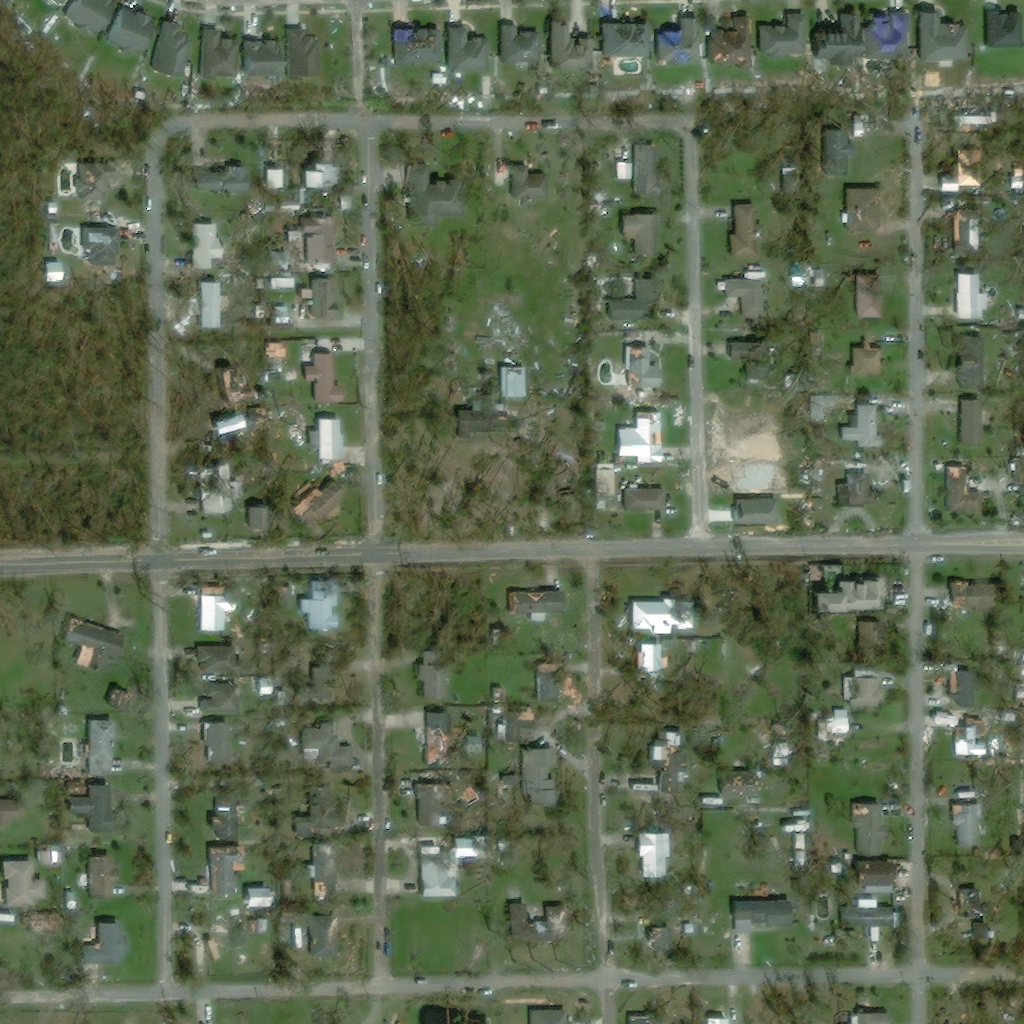minor_damage: (59, 612, 126, 674), (862, 6, 914, 76), (196, 464, 251, 516), (704, 13, 751, 71), (699, 770, 764, 808), (615, 411, 661, 463), (78, 719, 117, 778), (848, 802, 890, 856), (655, 16, 701, 64), (203, 845, 246, 894), (600, 18, 650, 59), (391, 25, 441, 65), (505, 586, 564, 616), (949, 803, 987, 849), (947, 467, 983, 515), (76, 163, 118, 201), (647, 731, 684, 773), (208, 791, 239, 841), (824, 129, 855, 177), (947, 581, 998, 610), (207, 925, 235, 976), (942, 672, 972, 718), (628, 345, 659, 389), (854, 860, 892, 895), (419, 712, 445, 761), (953, 209, 982, 252), (497, 365, 529, 399), (536, 664, 561, 702), (939, 111, 972, 133), (220, 367, 240, 400), (852, 114, 877, 138)
no_damage: (296, 713, 368, 771), (405, 163, 462, 227), (808, 566, 884, 614), (418, 840, 476, 899), (145, 17, 194, 80), (396, 643, 447, 701), (101, 8, 156, 61), (602, 275, 658, 323), (726, 200, 768, 260), (918, 11, 967, 62), (274, 28, 322, 80), (812, 10, 859, 63), (626, 599, 693, 635), (67, 780, 112, 833), (615, 144, 661, 195), (185, 277, 229, 329), (301, 352, 343, 406), (78, 919, 126, 966), (732, 897, 791, 935), (57, 0, 116, 37), (298, 580, 341, 630), (615, 209, 664, 252), (444, 26, 489, 72), (0, 861, 45, 907), (837, 405, 885, 448), (193, 583, 235, 632), (632, 830, 670, 884), (950, 271, 991, 319), (954, 335, 989, 391), (235, 35, 275, 82), (756, 25, 806, 62), (308, 418, 345, 468), (296, 912, 336, 958), (509, 161, 548, 207), (842, 670, 888, 709), (198, 29, 233, 79), (191, 641, 245, 673), (548, 21, 581, 73), (33, 768, 85, 801), (296, 217, 331, 265), (843, 189, 880, 234), (727, 340, 767, 381), (835, 899, 889, 928), (189, 223, 222, 270), (283, 162, 345, 187), (723, 278, 761, 318), (500, 26, 542, 61), (620, 481, 667, 512), (847, 340, 884, 379), (86, 855, 118, 899), (273, 187, 325, 214), (985, 10, 1021, 48), (297, 666, 335, 701), (959, 398, 984, 448), (201, 686, 240, 716), (855, 276, 882, 317), (494, 711, 529, 742), (817, 708, 849, 741), (188, 168, 226, 193), (207, 411, 243, 437), (307, 788, 332, 825), (845, 474, 873, 506), (641, 641, 664, 679), (203, 723, 232, 753), (332, 803, 362, 828), (0, 797, 22, 831), (265, 342, 288, 370), (608, 767, 632, 793), (849, 1010, 891, 1023), (247, 408, 274, 428), (242, 887, 268, 907), (531, 1010, 567, 1023), (648, 926, 671, 946), (108, 688, 128, 711), (350, 446, 370, 468), (934, 175, 958, 192), (815, 397, 836, 416), (490, 681, 507, 703), (289, 817, 311, 834), (279, 587, 295, 610), (271, 306, 290, 324), (720, 907, 732, 935), (268, 277, 295, 289), (48, 261, 63, 281), (1009, 171, 1023, 192), (466, 737, 481, 754), (266, 258, 289, 269), (877, 471, 891, 489), (43, 202, 60, 215), (629, 1015, 655, 1023), (492, 856, 500, 875), (298, 289, 311, 299), (705, 1017, 726, 1023), (59, 710, 69, 722)
unclassified: (758, 416, 793, 479), (739, 439, 755, 456)
